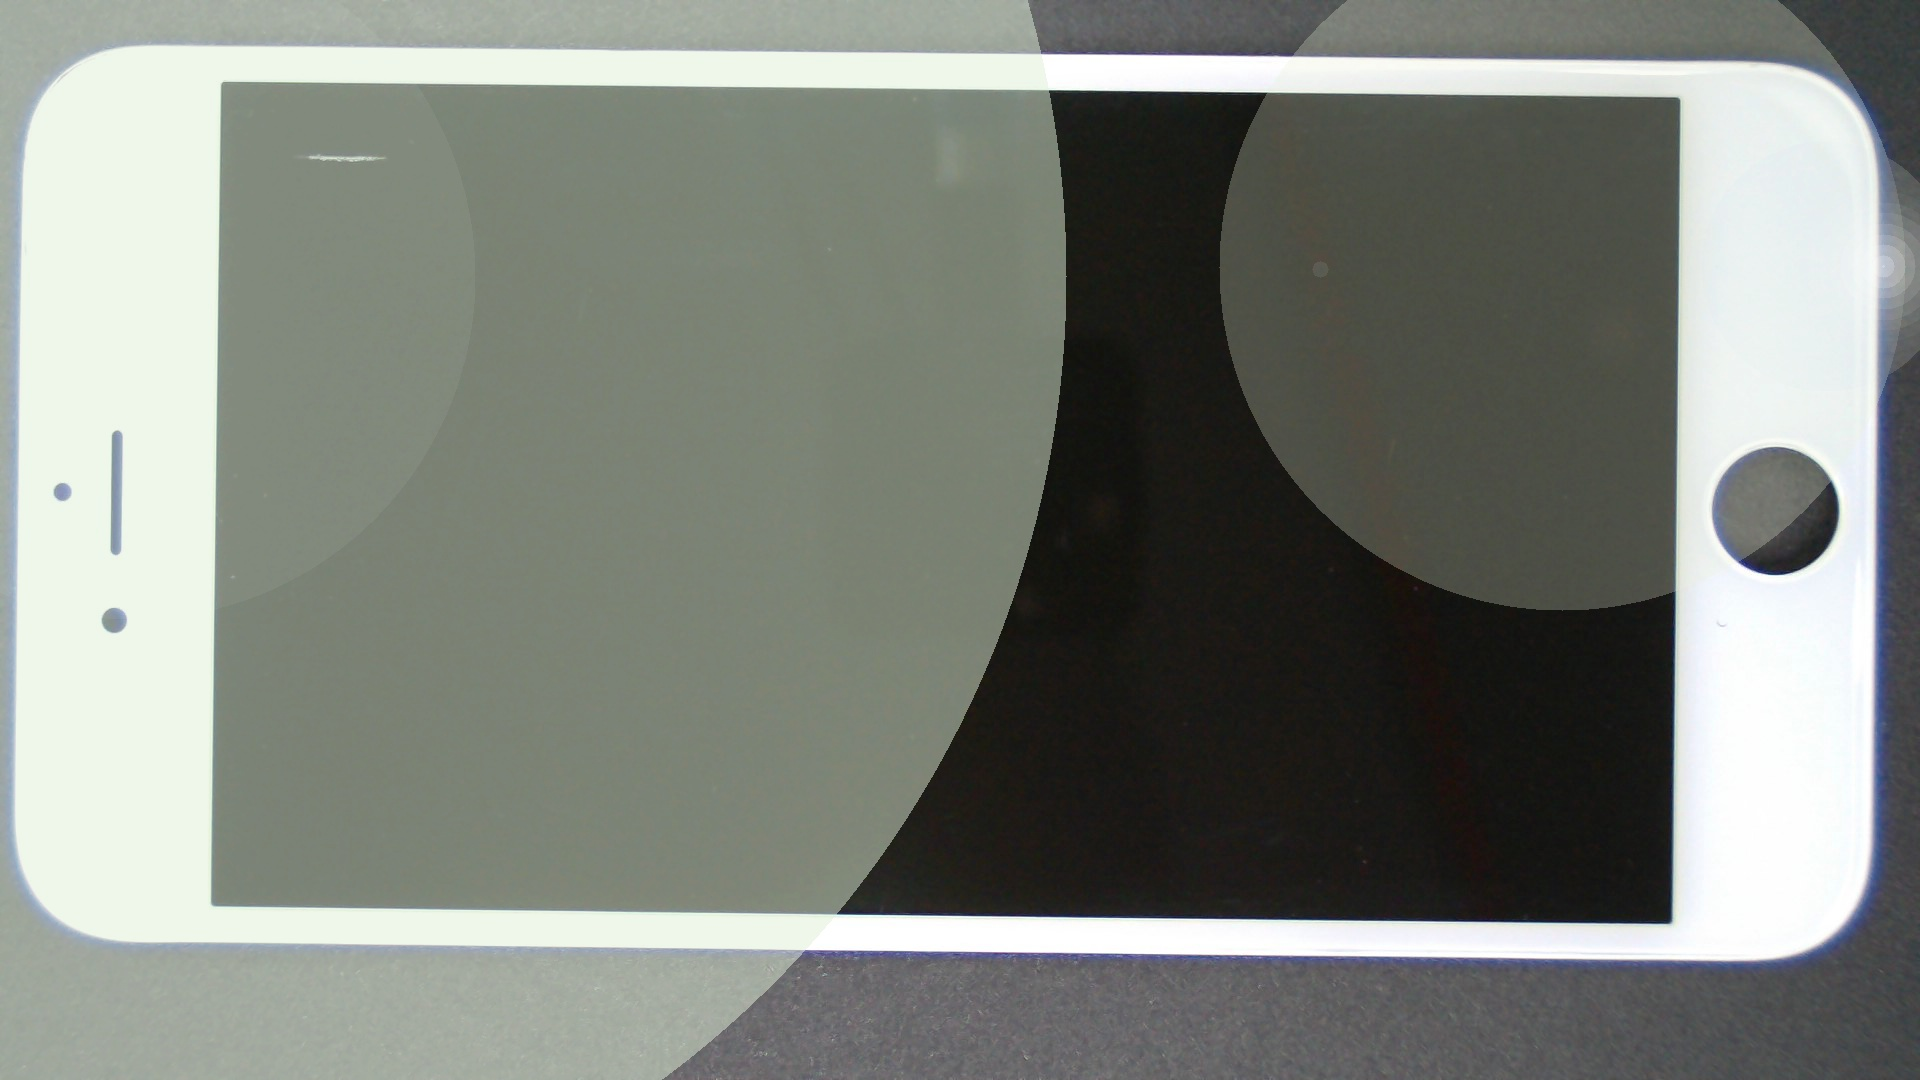oil: (157, 76, 471, 232)
